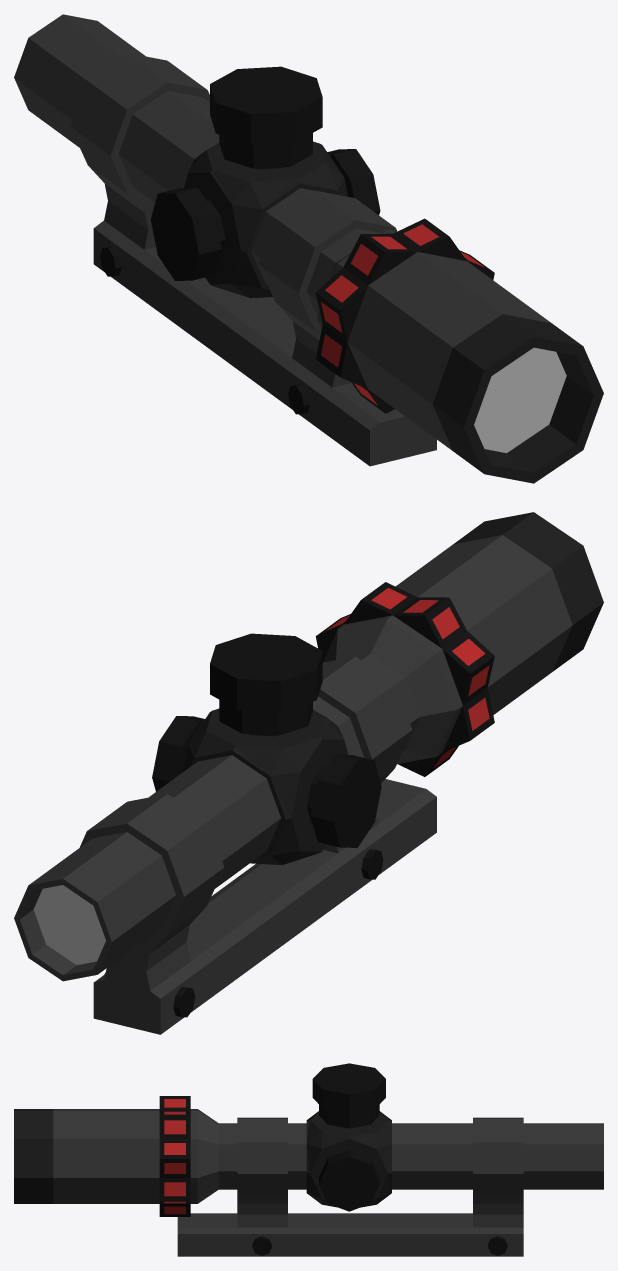
File: Scope.glb
The picture shows the model from 3 angles, top to bottom: view 1: azimuth 30°, elevation 25°; view 2: azimuth 150°, elevation 25°; view 3: azimuth 270°, elevation 25°; orthographic projection. The views are drawn at different scales.
Visible parts, largest first — view 1: Scope_East; view 2: Scope_East; view 3: Scope_East.
Boxes of the visible parts, x1,y1,x2,y2 form: Scope_East: (14,14,603,483); Scope_East: (14,512,603,1034); Scope_East: (14,1063,603,1256).
Bounding box in the file's own units: 0.0648 × 0.0914 × 0.2917.
